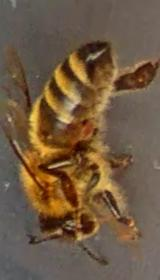varroa_mite: (70, 114, 99, 146)
